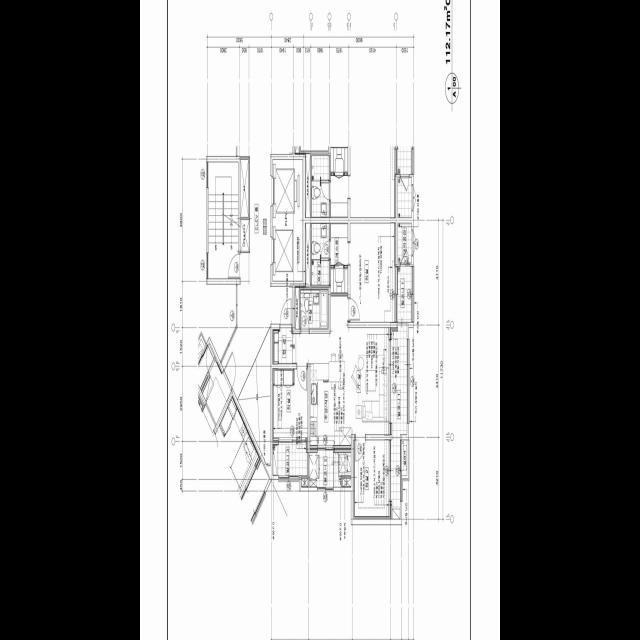background: (140, 0, 500, 640)
space_balconi: (391, 266, 411, 519), (309, 450, 351, 487), (273, 442, 308, 475)
space_bedroom: (350, 222, 395, 322), (353, 439, 389, 518), (273, 368, 308, 437)
space_dressroom: (331, 223, 348, 292)
space_elevator: (273, 159, 303, 220), (273, 220, 303, 280)
space_elevator_hall: (221, 155, 292, 399)
space_front: (274, 329, 296, 363)
space_kitchen: (310, 363, 351, 445)
space_living_room: (296, 295, 389, 434)
space_other: (238, 326, 270, 465), (398, 222, 412, 262), (241, 159, 248, 217), (305, 223, 310, 286), (241, 219, 249, 250), (295, 286, 299, 328)
space_staircase: (209, 161, 238, 278)
space_toilet: (312, 223, 329, 284), (301, 290, 328, 328)
